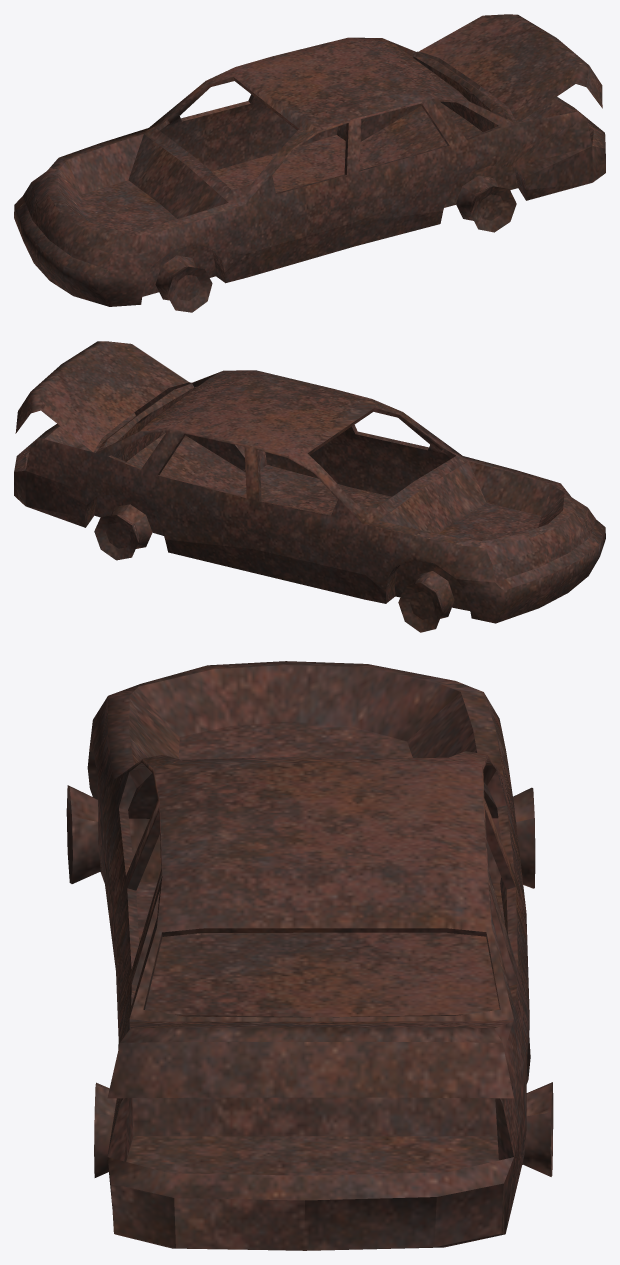
File: SM_Car_01.FBX
3 renders of one model, top to bottom at view 1: azimuth 30°, elevation 25°; view 2: azimuth 150°, elevation 25°; view 3: azimuth 270°, elevation 25°, orthographic. The views are drawn at different scales.
Visible parts, largest first — view 1: SM_Car_01; view 2: SM_Car_01; view 3: SM_Car_01.
Part boxes in pixels (<box>): SM_Car_01: <box>14,14,605,312</box>; SM_Car_01: <box>14,341,605,632</box>; SM_Car_01: <box>66,661,553,1250</box>.
Size of the model in its own units: 307 by 123 by 75.34.
